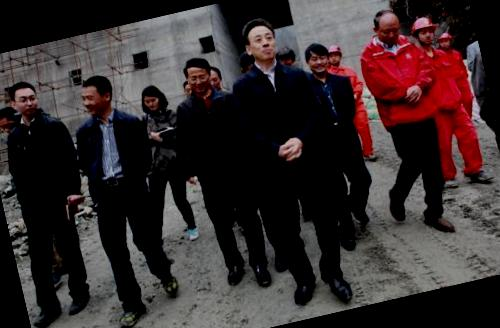no_helmet: (236, 13, 284, 69), (74, 69, 121, 123), (6, 74, 46, 120), (177, 53, 215, 99), (298, 36, 336, 81), (367, 5, 406, 46), (133, 79, 169, 121), (0, 101, 25, 141), (272, 42, 300, 76), (205, 63, 228, 96)
